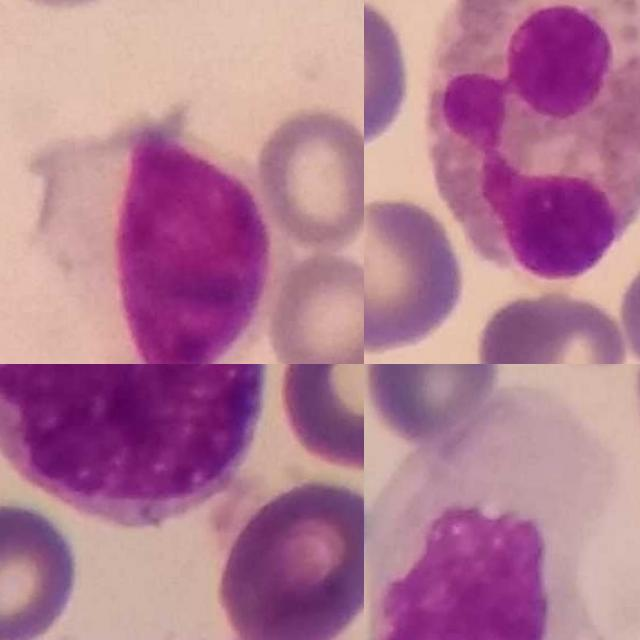Eosinophil: (430, 0, 640, 284)
Lymphocyte: (39, 120, 291, 364)
Monocyte: (365, 384, 640, 640), (0, 364, 267, 528)
